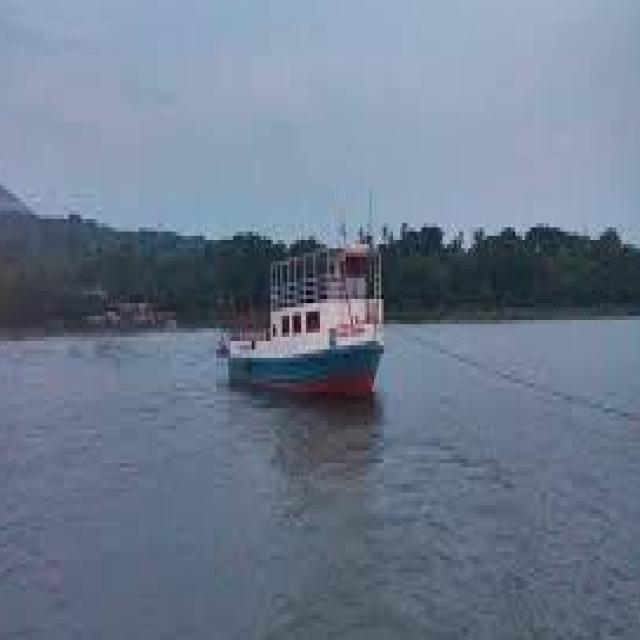houseboat: (217, 196, 391, 410)
